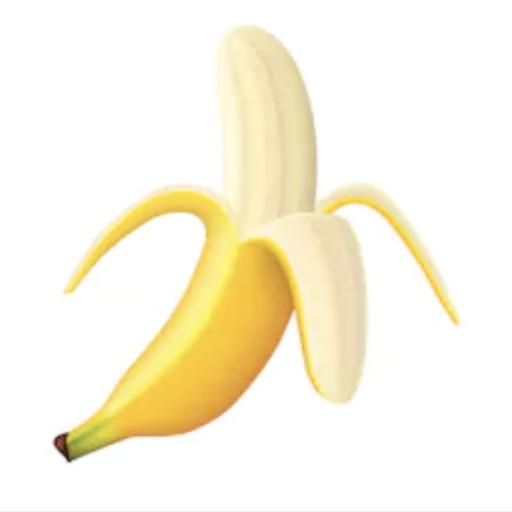banana: (56, 28, 456, 460)
